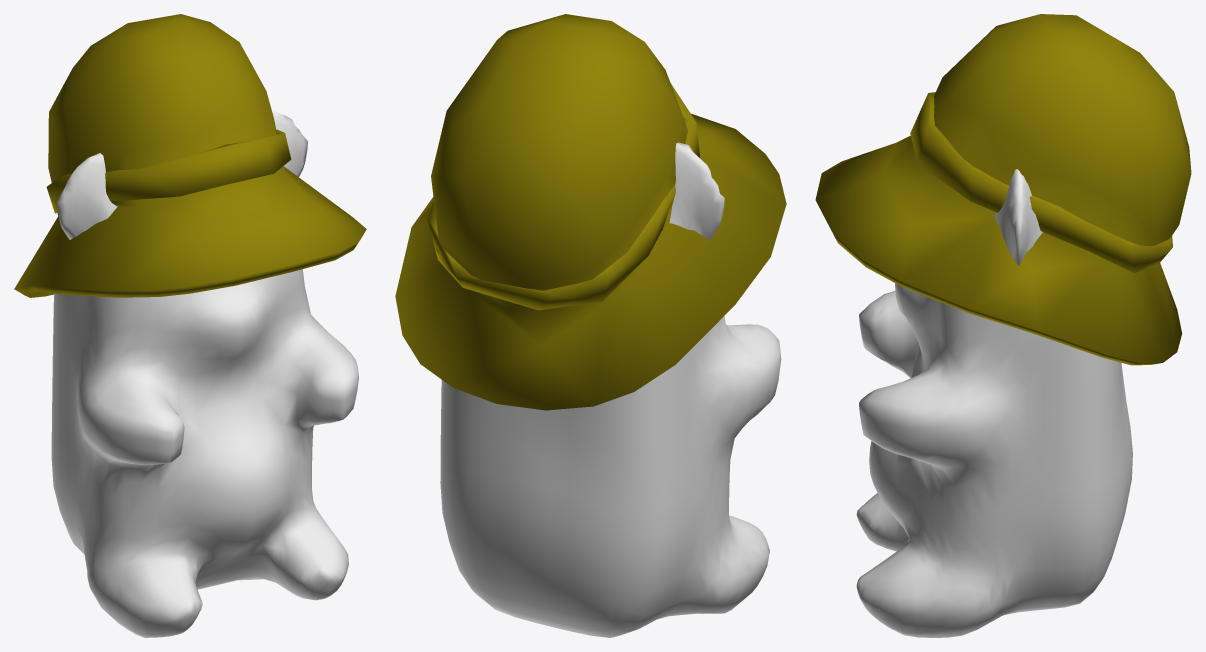
Rendered from Guia.fbx.
3 renders of one model, left to right at view 1: azimuth 30°, elevation 25°; view 2: azimuth 150°, elevation 25°; view 3: azimuth 270°, elevation 25°, orthographic. The views are drawn at different scales.
Parts seen in each view (by area): view 1: Retopo_Oso, Sombrero Oso; view 2: Sombrero Oso, Retopo_Oso; view 3: Sombrero Oso, Retopo_Oso.
Part boxes in pixels (x1,y1,x2,y2): Retopo_Oso: (51,111,358,637); Sombrero Oso: (14,14,366,297); Sombrero Oso: (395,14,786,410); Retopo_Oso: (440,142,781,637); Sombrero Oso: (815,14,1191,365); Retopo_Oso: (856,169,1132,637).
Bounding box in the file's own units: 27.07 × 48 × 28.81.
